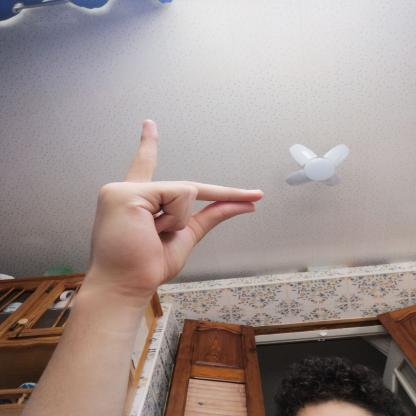TAA: (77, 112, 276, 300)
